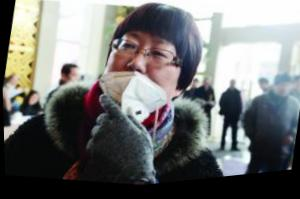WRONG: (96, 31, 180, 121)
